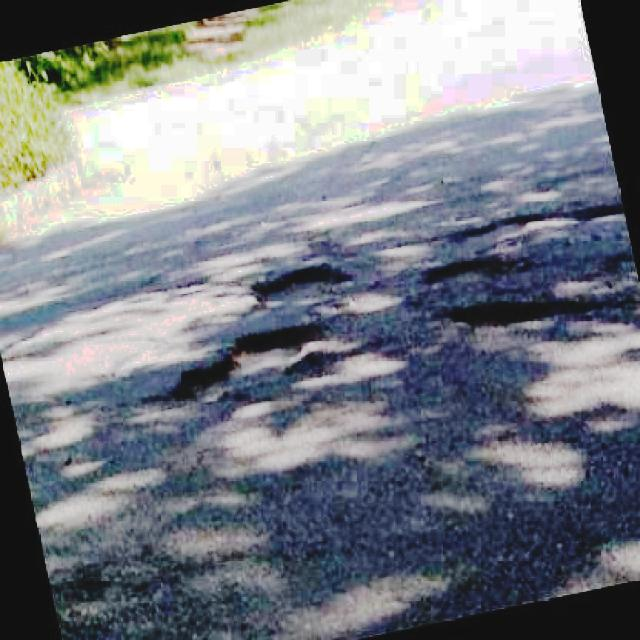pothole: (411, 191, 629, 291), (166, 318, 322, 408), (443, 295, 640, 348), (251, 258, 349, 318)
